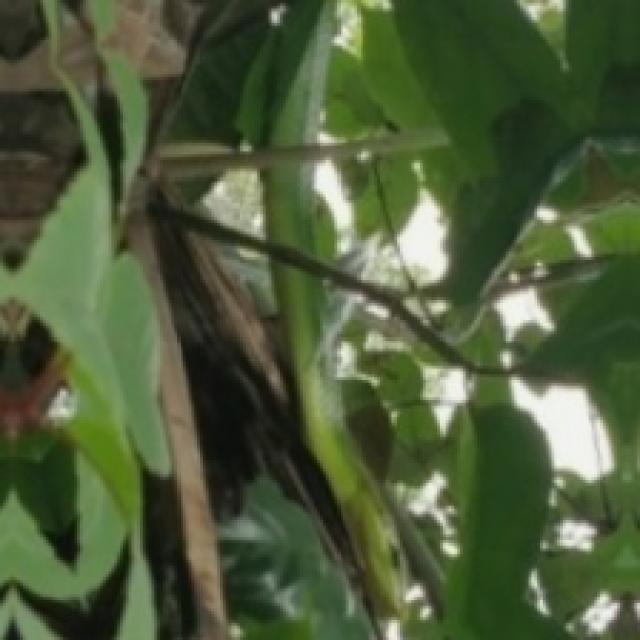red-tailed green ratsnake: (273, 260, 399, 610), (236, 0, 332, 149), (261, 162, 335, 256)
